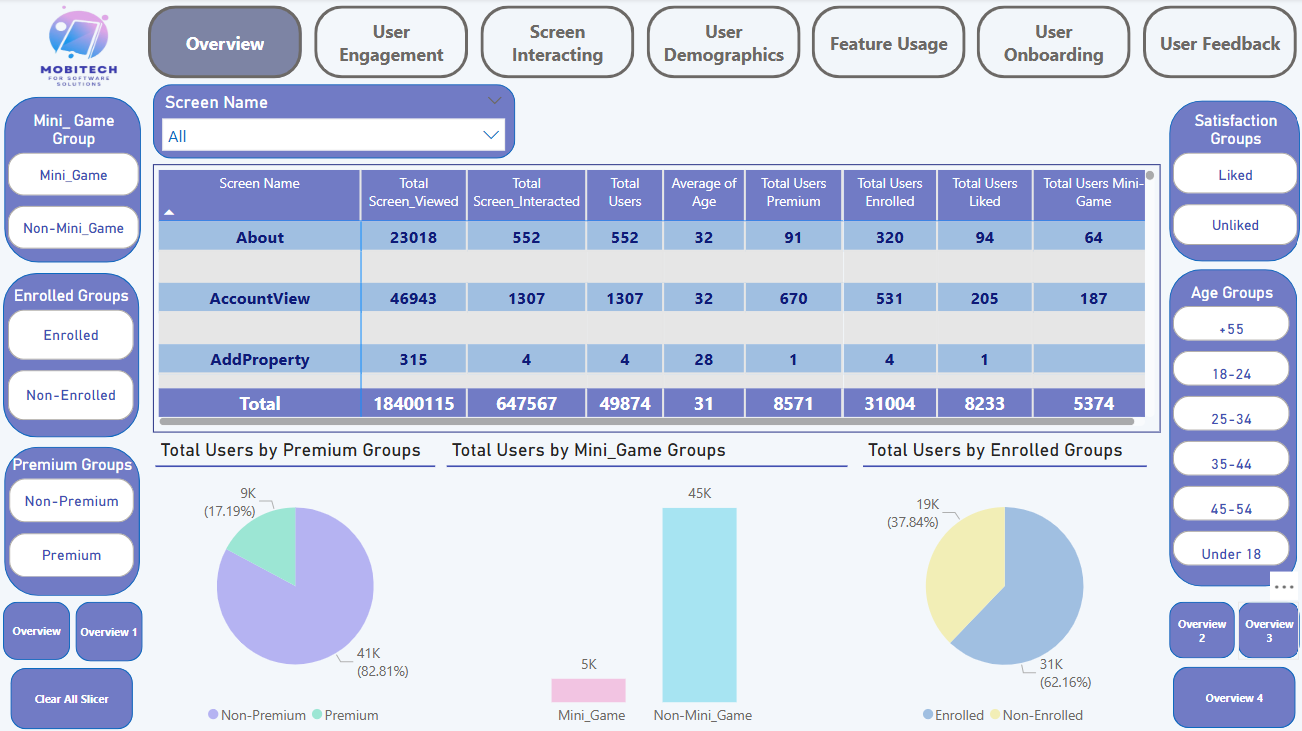

What the dashboard file says about the page in this screenshot:
{"tool":"powerbi","page":{"name":"Overview","canvas":[1280,720],"ordinal":3},"visuals":[{"type":"group","id":"g1","title":"Group 4","box":[4.4,96.9,138.6,162.2],"z":0,"group":"g7"},{"type":"shape","box":[6.1,96.9,133.8,162.2],"z":0,"group":"g1"},{"type":"group","id":"g2","title":"Group 3","box":[1144,100.7,132.8,157.6],"z":0,"group":"g8"},{"type":"shape","box":[1144.8,100.7,128.8,157.6],"z":0,"group":"g2"},{"type":"gauge","fields":{"Y":["Total.Satisfaction Rate"]},"box":[151.4,220.7,485.6,195.5],"z":0,"group":"g9"},{"type":"shape","box":[1145.7,265.6,125.2,310.3],"z":0,"group":"g6"},{"type":"group","id":"g3","title":"Group 2","box":[4.4,269.5,133.3,160.9],"z":0,"group":"g5"},{"type":"shape","box":[4.4,269.5,133.3,160.9],"z":0,"group":"g3"},{"type":"shape","box":[5.8,438.8,132.7,145.9],"z":0,"group":"g4"},{"type":"columnChart","fields":{"Category":["appdata10.Mini_Game Group","appdata10.Satisfaction Groups"],"Y":["Total.Total Users"]},"box":[450,454.6,392.5,265.4],"z":0},{"type":"advancedSlicerVisual","fields":{"Values":["appdata10.Satisfaction Groups"]},"box":[1144,111.7,132.8,135.9],"z":1000,"group":"g2"},{"type":"advancedSlicerVisual","title":"  Mini_ Game Group","fields":{"Values":["appdata10.Mini_Game Group"]},"box":[4.4,112.1,138.6,140.3],"z":1000,"group":"g1"},{"type":"advancedSlicerVisual","fields":{"Values":["appdata10.Age Groups"]},"box":[1144,278.8,125,285.8],"z":1000,"group":"g6"},{"type":"advancedSlicerVisual","fields":{"Values":["appdata10.Enrolled Groups"]},"box":[4.4,282.8,133.3,136.7],"z":1000,"group":"g3"},{"type":"card","fields":{"Values":["Total.Satisfaction Rate"]},"box":[312.7,326.3,154,72.8],"z":1000,"group":"g9"},{"type":"advancedSlicerVisual","fields":{"Values":["appdata10.Premium Groups"]},"box":[5.8,447.9,132.8,123.8],"z":1000,"group":"g4"},{"type":"pieChart","fields":{"Category":["appdata10.Enrolled Groups"],"Y":["Total.Total Users"]},"box":[846.2,456.1,291,264.1],"z":1000},{"type":"pieChart","fields":{"Category":["appdata10.Premium Groups"],"Y":["Total.Total Users"]},"box":[154.1,456.1,292.3,264.1],"z":2000},{"type":"group","id":"g4","title":"Group 1","box":[5.8,438.8,132.8,145.9],"z":3000},{"type":"group","id":"g5","title":"Group 1","box":[4.4,269.5,132.8,160.5],"z":4000},{"type":"group","id":"g6","title":"Group 1","box":[1144,265.6,128.4,310.8],"z":5000},{"type":"group","id":"g7","title":"Group 2","box":[4.4,96.9,138.6,162],"z":6000},{"type":"group","id":"g8","title":"Group 2","box":[1144,100.7,132.8,157.6],"z":7000},{"type":"shape","box":[75.9,591,65.7,58.4],"z":8000},{"type":"cardVisual","fields":{"Data":["Total.Total Users"]},"box":[144.3,84.4,249.5,130.8],"z":11000},{"type":"cardVisual","fields":{"Data":["Total.Total Screen_Viewed"]},"box":[393.8,84.4,250.7,130.8],"z":12000},{"type":"cardVisual","fields":{"Data":["Total.Total Screen_Interacted"]},"box":[644.4,84.4,249.5,130.8],"z":13000},{"type":"cardVisual","fields":{"Data":["Total.Total Users Premium Feature"]},"box":[892.7,84.4,249.5,130.8],"z":14000},{"type":"group","id":"g9","title":"Group 6","box":[151.4,220.7,485.6,195.5],"z":15000},{"type":"funnel","fields":{"Y":["Total.Total Users_First open","Total.Total Users_Enrolled"]},"box":[649.3,228.7,490.4,178.5],"z":16000},{"type":"actionButton","box":[634.1,7.9,150.6,71.3],"z":18000},{"type":"actionButton","box":[309.1,7.9,150.6,71.3],"z":19000},{"type":"actionButton","box":[471.6,7.9,150.6,71.3],"z":20000},{"type":"actionButton","box":[146.6,7.9,150.6,71.3],"z":21000},{"type":"actionButton","box":[796.5,7.9,150.6,71.3],"z":22000},{"type":"actionButton","box":[957.7,7.9,150.6,71.3],"z":23000},{"type":"actionButton","box":[1120.2,7.9,150.6,71.3],"z":24000},{"type":"image","box":[28.1,0,101.5,96.6],"z":25000},{"type":"shape","box":[11.7,655.2,119.7,59.8],"z":26000},{"type":"shape","box":[1145.5,591,64.2,55.4],"z":27000},{"type":"shape","box":[4.4,591,65.7,56.9],"z":28000},{"type":"shape","box":[1212.6,591,61.3,55.4],"z":31000},{"type":"shape","box":[1149.5,654.2,119.8,59.9],"z":32000}]}

Visuals, with their boxes in screenshot pixels (x1, y1, x2, y2), scaled from the page's 1280x720 canvas onto the 1302x731 screenshot:
"Group 4" group: bbox(4, 98, 145, 263)
shape: bbox(6, 98, 142, 263)
"Group 3" group: bbox(1164, 102, 1299, 262)
shape: bbox(1164, 102, 1295, 262)
gauge - Total.Satisfaction Rate: bbox(154, 224, 648, 423)
shape: bbox(1165, 270, 1293, 585)
"Group 2" group: bbox(4, 274, 140, 437)
shape: bbox(4, 274, 140, 437)
shape: bbox(6, 446, 141, 594)
columnChart - appdata10.Mini_Game Group x appdata10.Satisfaction Groups: bbox(458, 462, 857, 730)
advancedSlicerVisual - appdata10.Satisfaction Groups: bbox(1164, 113, 1299, 251)
"  Mini_ Game Group" advancedSlicerVisual: bbox(4, 114, 145, 256)
advancedSlicerVisual - appdata10.Age Groups: bbox(1164, 283, 1291, 573)
advancedSlicerVisual - appdata10.Enrolled Groups: bbox(4, 287, 140, 426)
card - Total.Satisfaction Rate: bbox(318, 331, 475, 405)
advancedSlicerVisual - appdata10.Premium Groups: bbox(6, 455, 141, 580)
pieChart - appdata10.Enrolled Groups x Total.Total Users: bbox(861, 463, 1157, 730)
pieChart - appdata10.Premium Groups x Total.Total Users: bbox(157, 463, 454, 730)
"Group 1" group: bbox(6, 446, 141, 594)
"Group 1" group: bbox(4, 274, 140, 437)
"Group 1" group: bbox(1164, 270, 1294, 585)
"Group 2" group: bbox(4, 98, 145, 263)
"Group 2" group: bbox(1164, 102, 1299, 262)
shape: bbox(77, 600, 144, 659)
cardVisual - Total.Total Users: bbox(147, 86, 401, 218)
cardVisual - Total.Total Screen_Viewed: bbox(401, 86, 656, 218)
cardVisual - Total.Total Screen_Interacted: bbox(655, 86, 909, 218)
cardVisual - Total.Total Users Premium Feature: bbox(908, 86, 1162, 218)
"Group 6" group: bbox(154, 224, 648, 423)
funnel - Total.Total Users_First open x Total.Total Users_Enrolled: bbox(660, 232, 1159, 413)
actionButton: bbox(645, 8, 798, 80)
actionButton: bbox(314, 8, 468, 80)
actionButton: bbox(480, 8, 633, 80)
actionButton: bbox(149, 8, 302, 80)
actionButton: bbox(810, 8, 963, 80)
actionButton: bbox(974, 8, 1127, 80)
actionButton: bbox(1139, 8, 1293, 80)
image: bbox(29, 0, 132, 98)
shape: bbox(12, 665, 134, 726)
shape: bbox(1165, 600, 1230, 656)
shape: bbox(4, 600, 71, 658)
shape: bbox(1233, 600, 1296, 656)
shape: bbox(1169, 664, 1291, 725)
